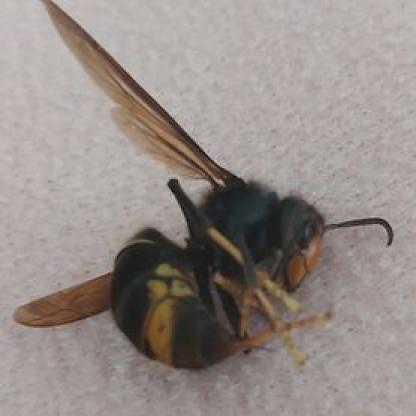Asian Hornet: (13, 4, 393, 369)
